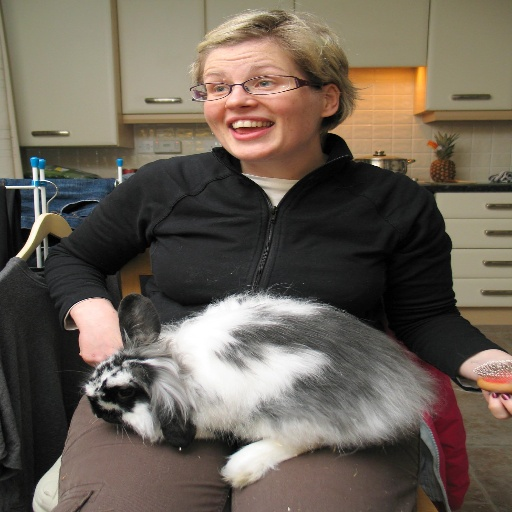hand: (77, 318, 123, 367), (480, 388, 511, 422)
